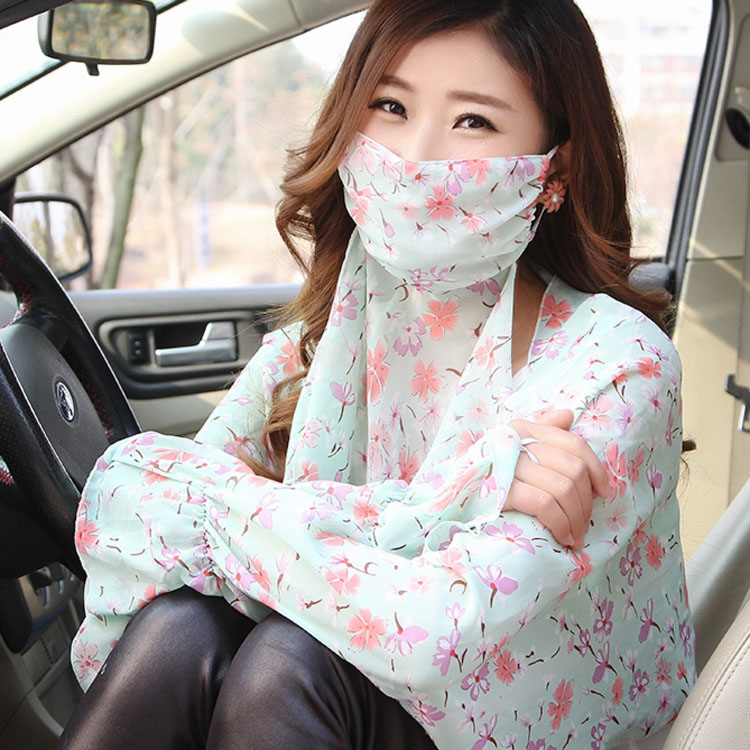face_mask: (346, 24, 541, 268)
